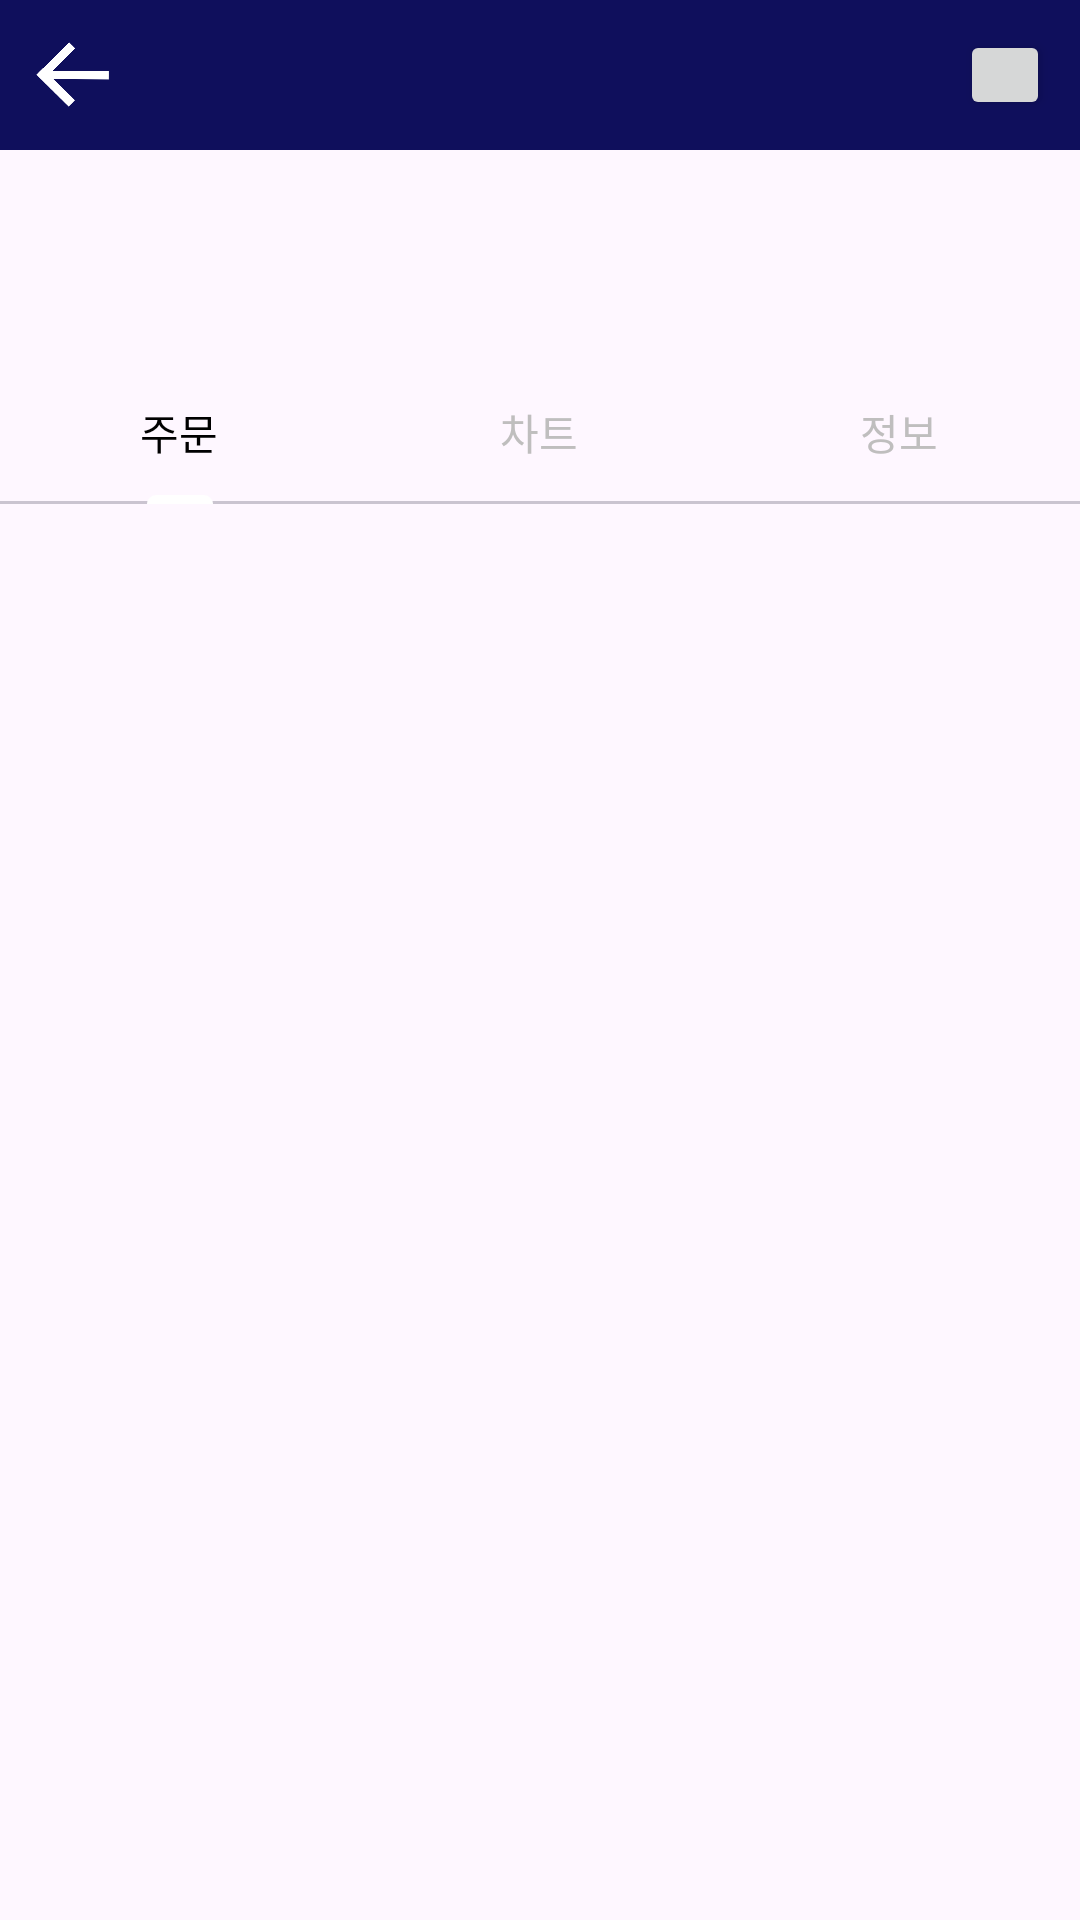

Named icons in this screenshot (1080x1920) and their bounding boxes, bbox=[x1, y1, x2, y2]:
back space: bbox=[36, 42, 109, 107]
